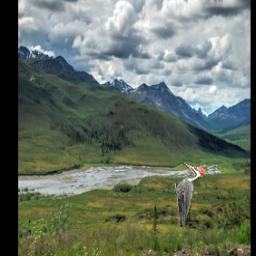Woodpecker: (176, 163, 206, 228)
